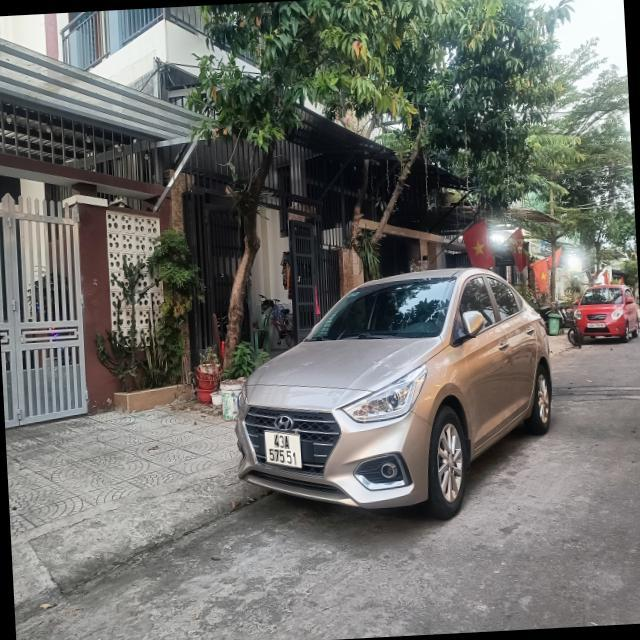car: (229, 262, 560, 518), (571, 280, 638, 349)
plate: (262, 426, 305, 471)
